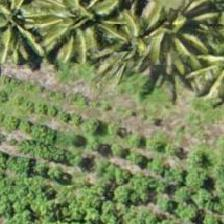coconut_tree: (124, 0, 214, 77), (87, 0, 177, 74), (35, 0, 125, 54), (0, 0, 58, 57)
